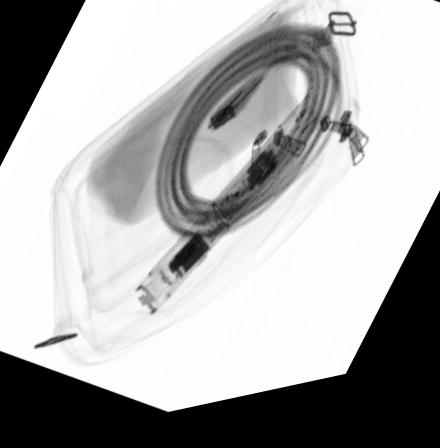Baton: (130, 102, 330, 325)
